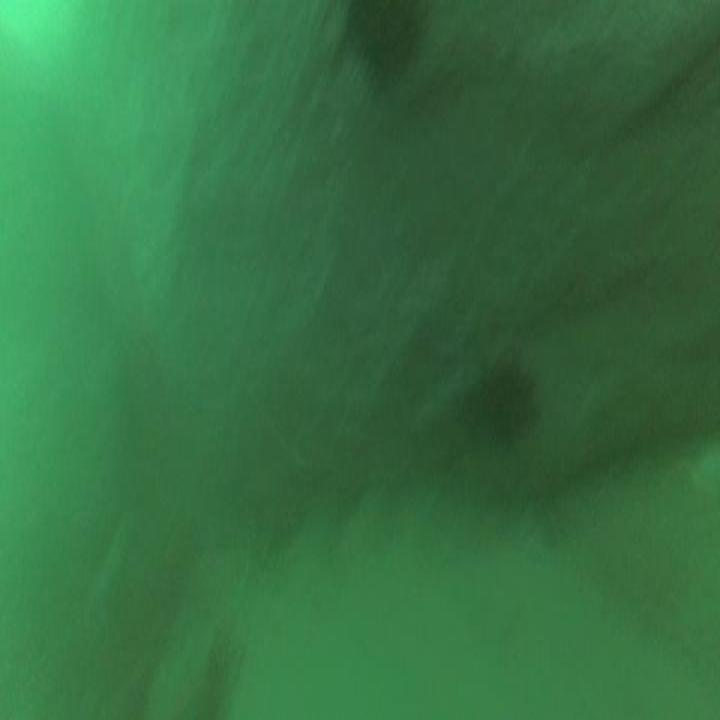echinus: (339, 4, 437, 119), (474, 343, 545, 462)
